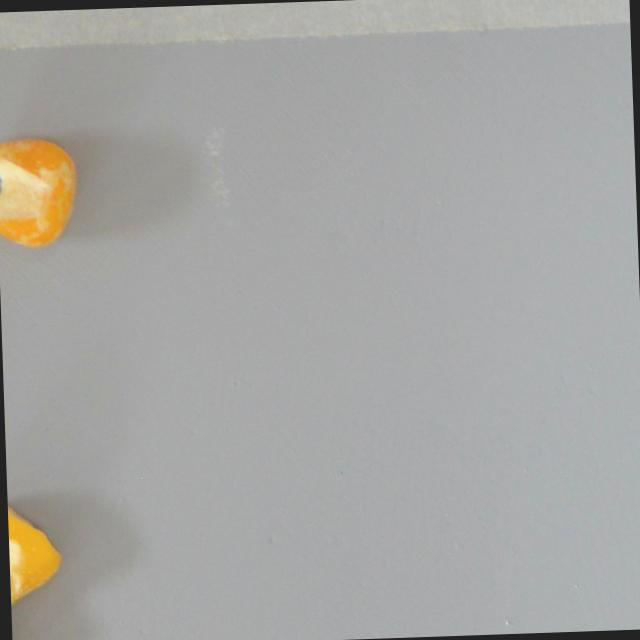dañado: (0, 128, 82, 253), (6, 491, 66, 607)
